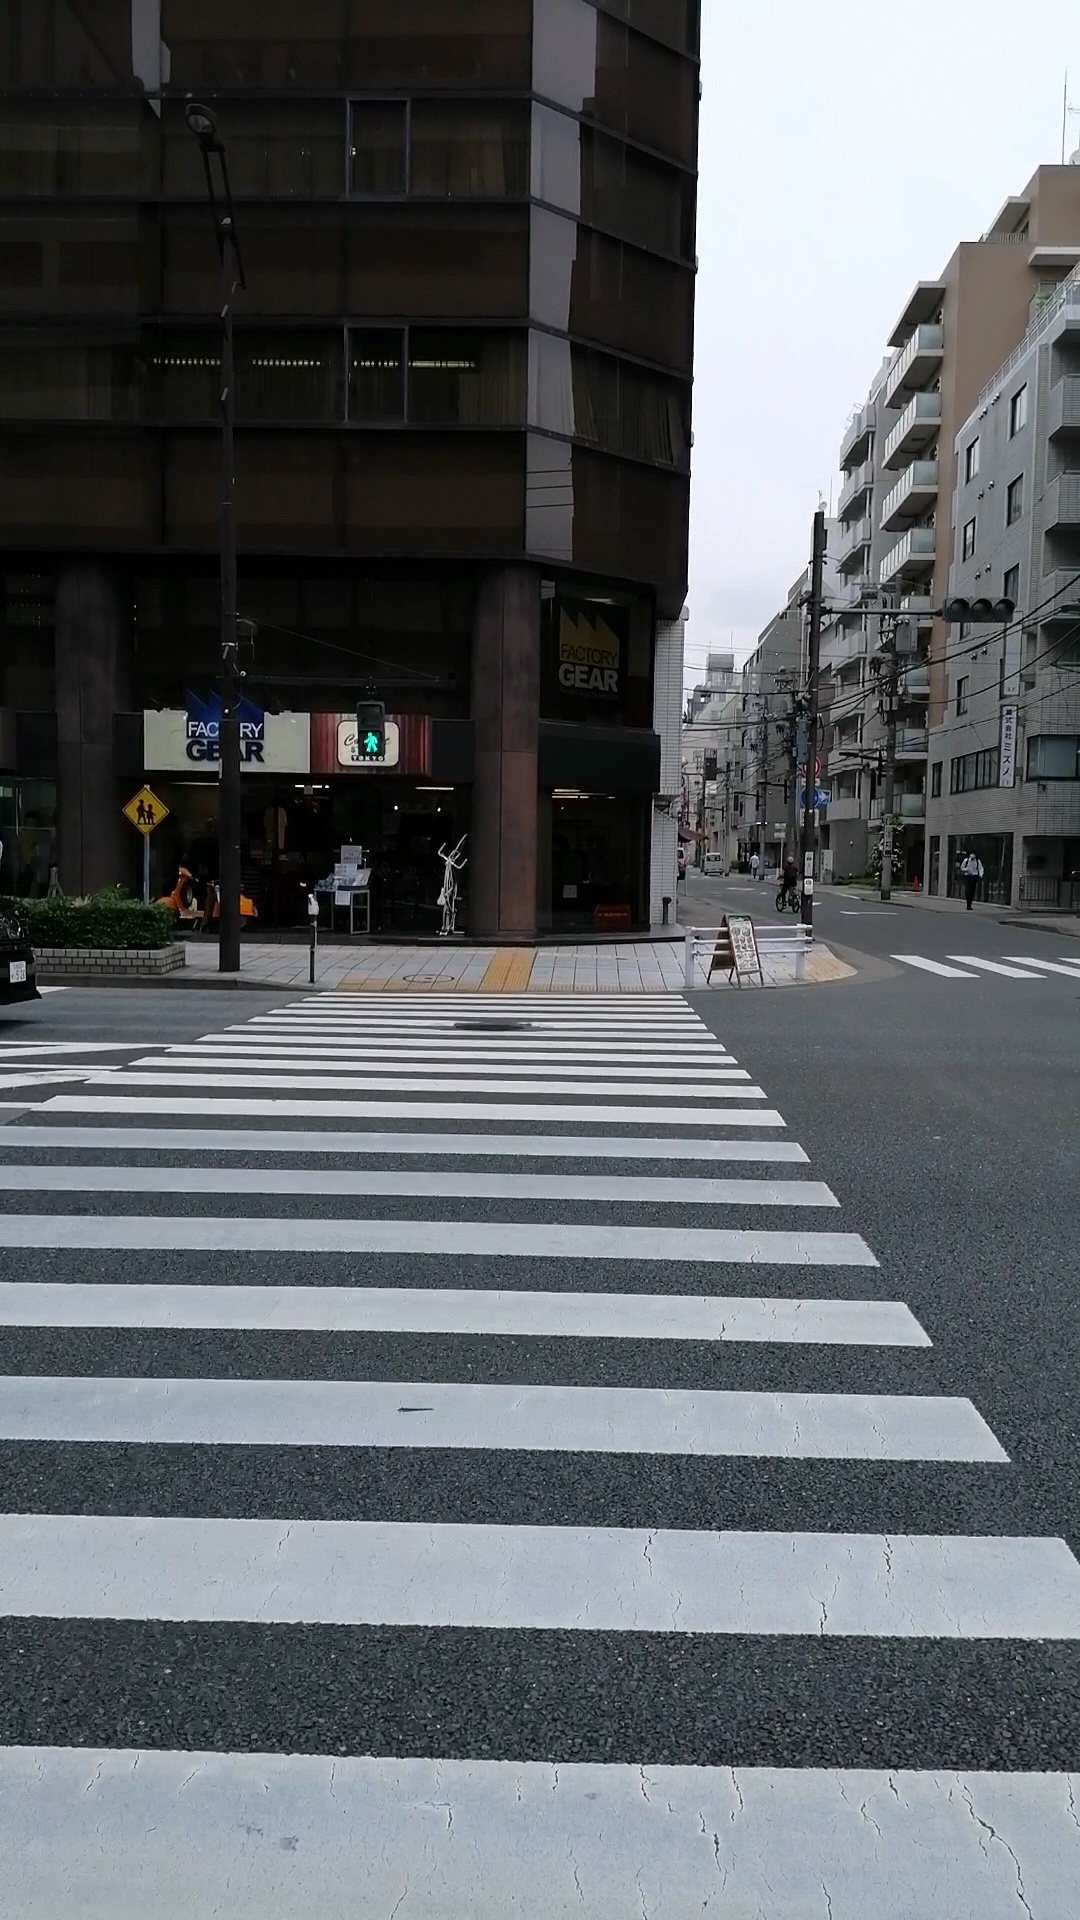green: (355, 702, 386, 757)
